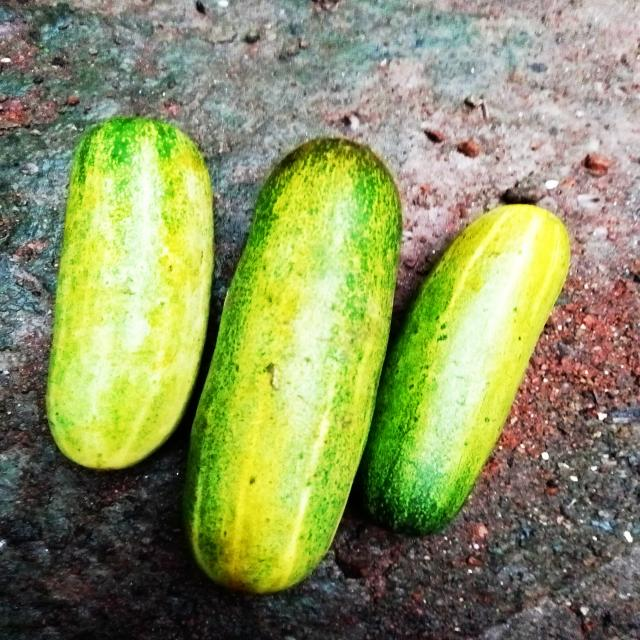Fresh-Cucumber: (182, 133, 405, 596), (360, 200, 575, 542), (44, 113, 216, 476)
